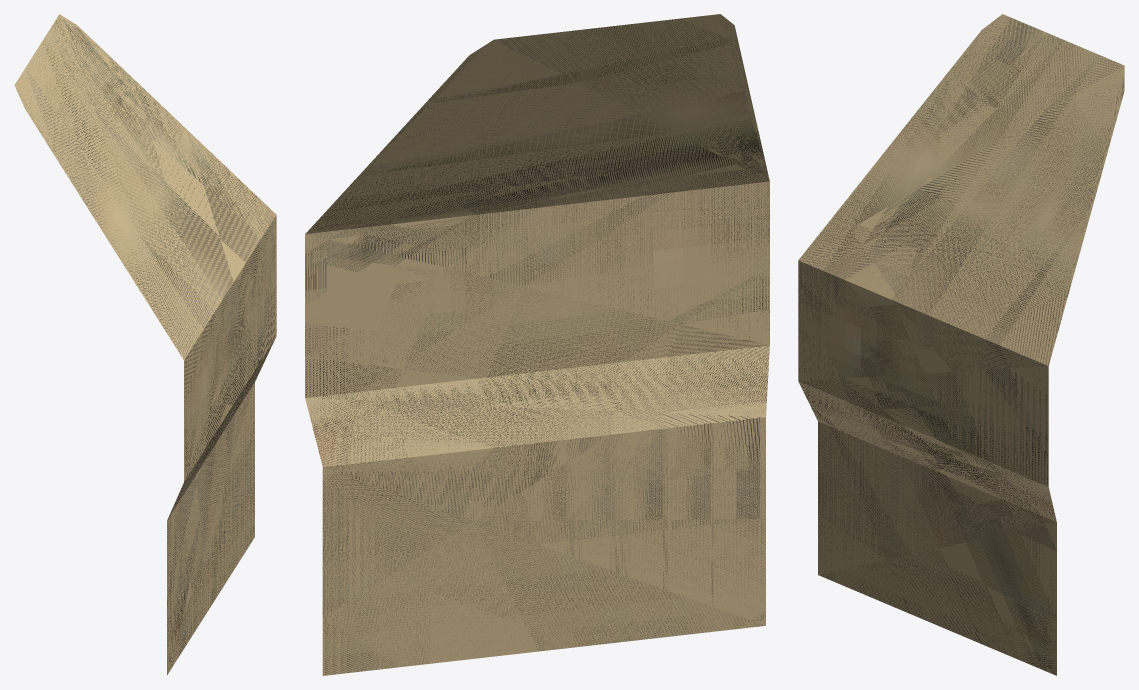
Rendered from 埃菲尔铁塔58.dae.
3 views of the same model, side by side, from view 1: azimuth 30°, elevation 25°; view 2: azimuth 150°, elevation 25°; view 3: azimuth 270°, elevation 25° (orthographic). The views are drawn at different scales.
Visible parts, largest first — view 1: SketchUp; view 2: SketchUp; view 3: SketchUp.
Part boxes in pixels (x1,y1,x2,y2): SketchUp: (14,14,276,675); SketchUp: (305,14,769,675); SketchUp: (798,14,1124,675).
Size of the model in its own units: 372 by 372 by 669.
3 materials, 2 textured.
